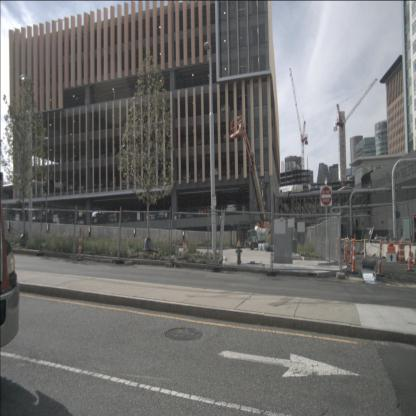movable_object-barrier: (383, 244, 401, 259), (370, 242, 384, 258), (400, 244, 409, 262), (352, 241, 363, 255), (364, 242, 372, 257), (345, 239, 354, 251), (340, 238, 346, 251)
movable_object-trafficcone: (349, 233, 358, 274), (376, 236, 385, 276), (406, 236, 415, 272), (76, 224, 84, 260), (397, 242, 406, 263), (180, 240, 188, 257), (344, 235, 348, 267), (350, 237, 354, 264), (344, 236, 348, 262), (335, 237, 339, 262), (364, 235, 366, 261), (413, 248, 415, 266)
vehicle-car: (86, 211, 107, 226), (225, 200, 242, 216), (180, 167, 193, 181), (192, 167, 205, 181), (159, 206, 170, 222), (209, 164, 221, 178), (108, 212, 121, 224), (184, 207, 196, 220), (146, 211, 160, 222), (222, 129, 232, 143), (220, 102, 231, 114), (198, 205, 208, 218), (223, 164, 232, 177)
